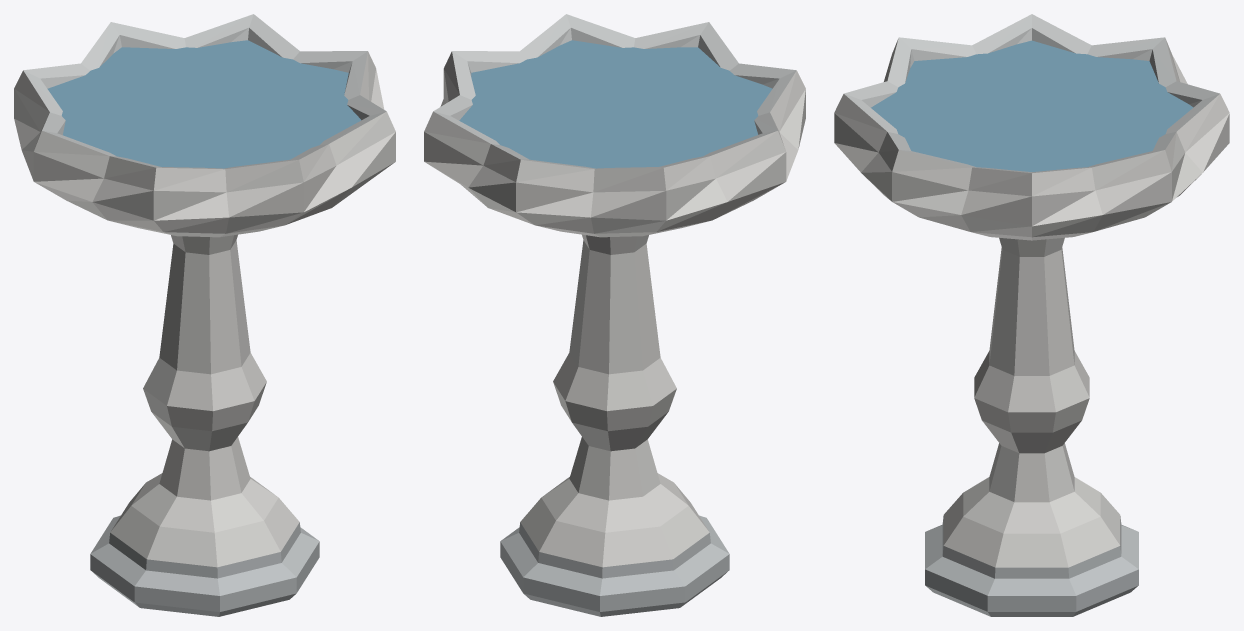
Rendered from garden-birdbath-9671de.glb.
3 renders of one model, left to right at view 1: azimuth 30°, elevation 25°; view 2: azimuth 150°, elevation 25°; view 3: azimuth 270°, elevation 25°, orthographic.
Size of the model in its own units: 0.67 by 0.9 by 0.67.
